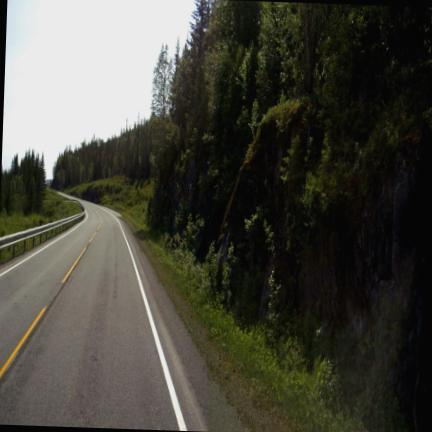Road: (0, 201, 241, 430)
